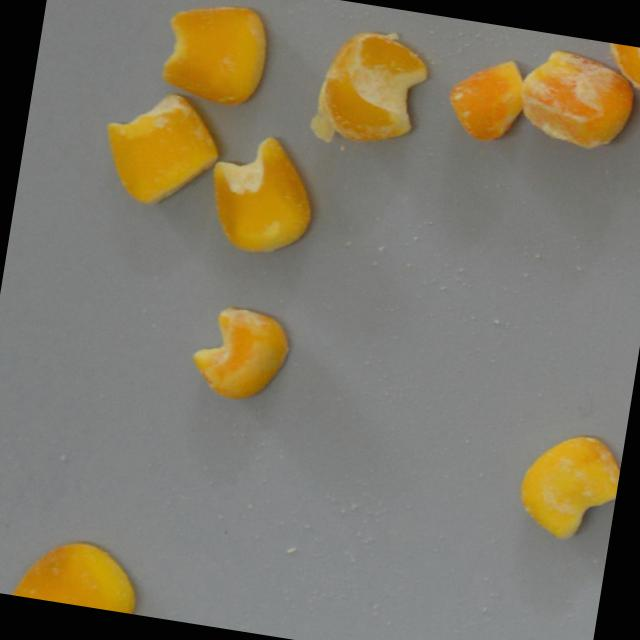no_canjicado: (202, 127, 323, 262), (7, 532, 145, 615)
pelicula: (94, 83, 226, 215), (314, 26, 432, 152), (510, 427, 625, 548), (516, 45, 640, 155), (156, 0, 273, 110), (186, 302, 293, 406), (442, 52, 532, 146), (601, 42, 640, 96)
